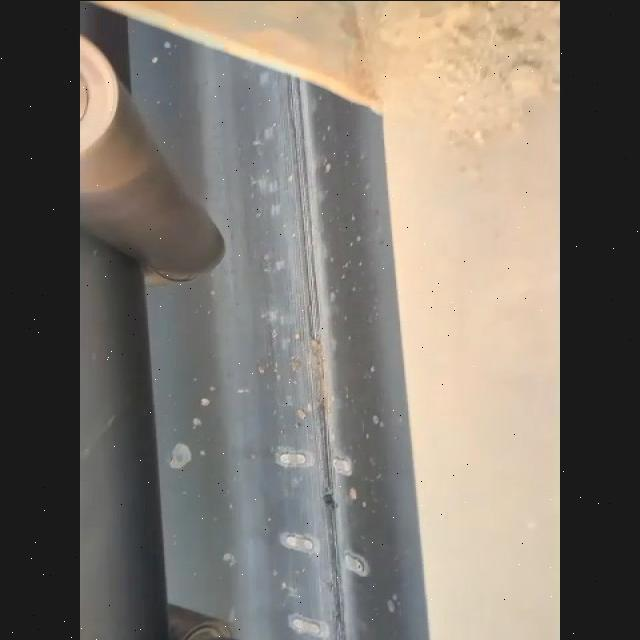Wear: (283, 71, 352, 640)
